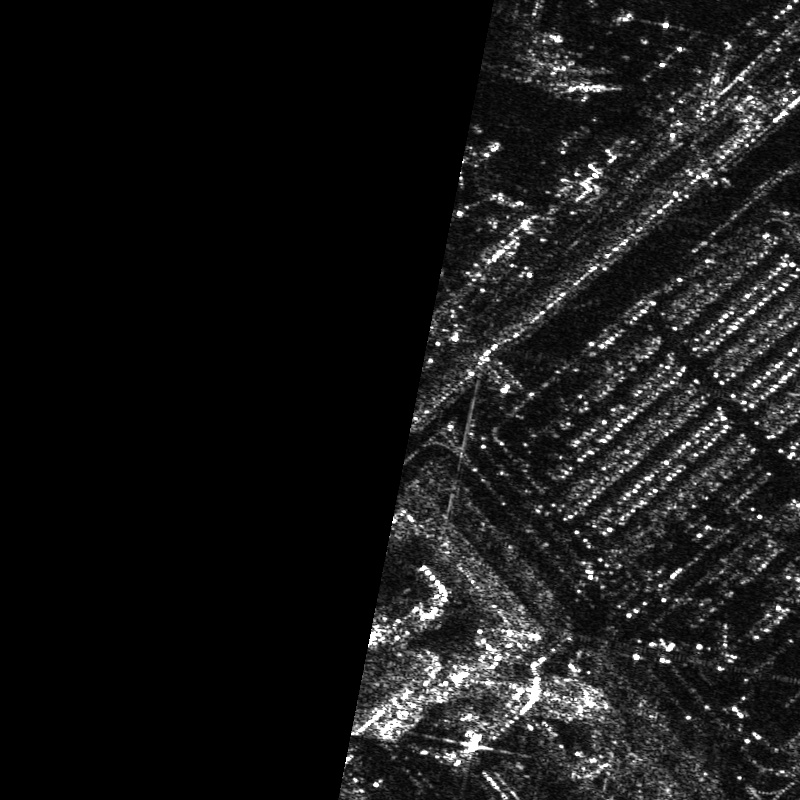Boeing737: (483, 1, 570, 69)
